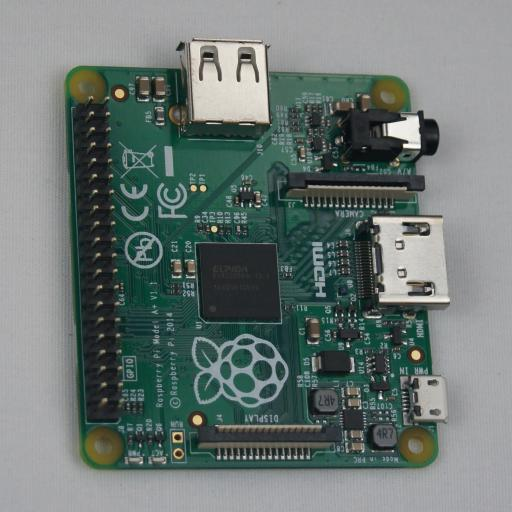Raspberry Pi A-: (65, 39, 448, 470)
